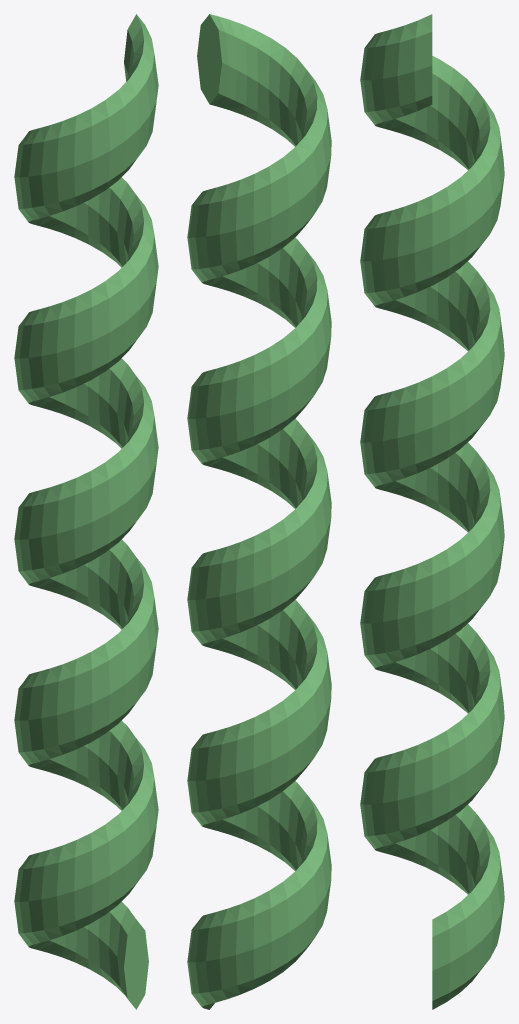
File: helix_2.glb
3 renders of one model, left to right at view 1: azimuth 30°, elevation 25°; view 2: azimuth 150°, elevation 25°; view 3: azimuth 270°, elevation 25°, orthographic.
Visible parts, largest first — view 1: Mesh_Mesh_head_geo.001_lambert2SG.001; view 2: Mesh_Mesh_head_geo.001_lambert2SG.001; view 3: Mesh_Mesh_head_geo.001_lambert2SG.001.
Part boxes in pixels (x1=…): Mesh_Mesh_head_geo.001_lambert2SG.001: x1=14, y1=14, x2=158, y2=1009; Mesh_Mesh_head_geo.001_lambert2SG.001: x1=187, y1=14, x2=331, y2=1009; Mesh_Mesh_head_geo.001_lambert2SG.001: x1=360, y1=14, x2=504, y2=1009.
Size of the model in its own units: 9.05 by 69 by 9.07.
